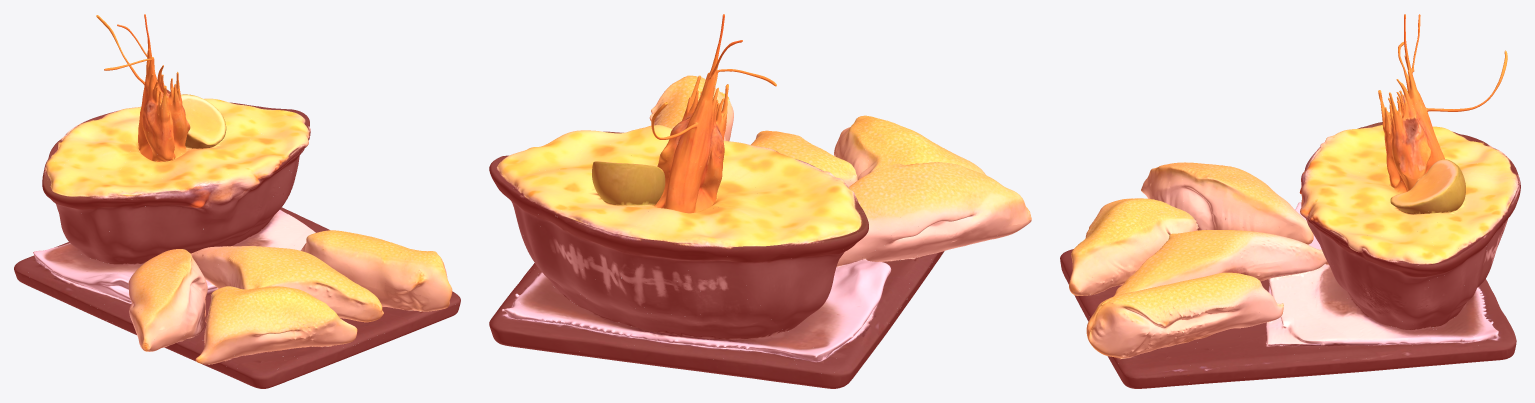
Rendered from graiten.glb.
3 views of the same model, side by side, from view 1: azimuth 30°, elevation 25°; view 2: azimuth 150°, elevation 25°; view 3: azimuth 270°, elevation 25° (orthographic). The views are drawn at different scales.
Visible parts, largest first — view 1: tripo_node_4d1790a3-b5b4-458c-b7a5-2448c44e6713; view 2: tripo_node_4d1790a3-b5b4-458c-b7a5-2448c44e6713; view 3: tripo_node_4d1790a3-b5b4-458c-b7a5-2448c44e6713.
Boxes of the visible parts, bbox=[...] form: tripo_node_4d1790a3-b5b4-458c-b7a5-2448c44e6713: bbox=[14, 14, 460, 388]; tripo_node_4d1790a3-b5b4-458c-b7a5-2448c44e6713: bbox=[489, 14, 1031, 388]; tripo_node_4d1790a3-b5b4-458c-b7a5-2448c44e6713: bbox=[1060, 14, 1520, 388].
Bounding box in the file's own units: 0.8391 × 0.651 × 0.9796.
Materials: 1 (1 with a texture image).
